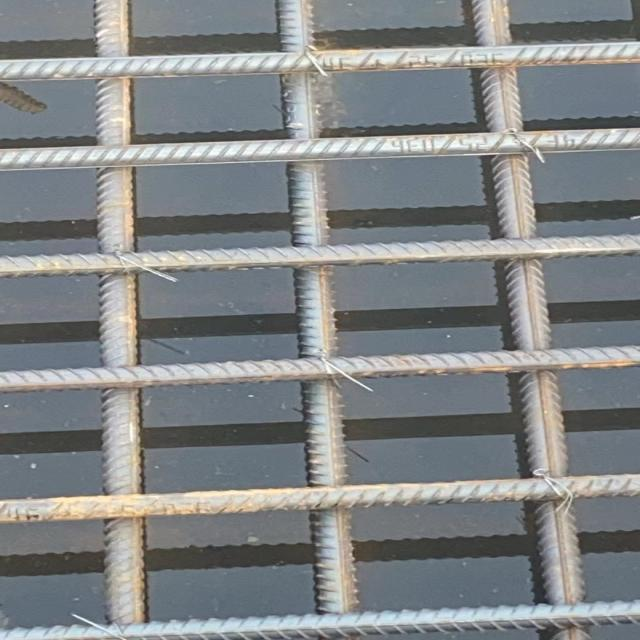ribbed bar: (465, 0, 590, 639), (274, 0, 358, 639), (92, 0, 148, 624), (0, 472, 639, 525), (0, 344, 639, 393), (0, 233, 639, 279), (0, 127, 639, 172), (0, 38, 639, 80), (0, 600, 639, 639)
